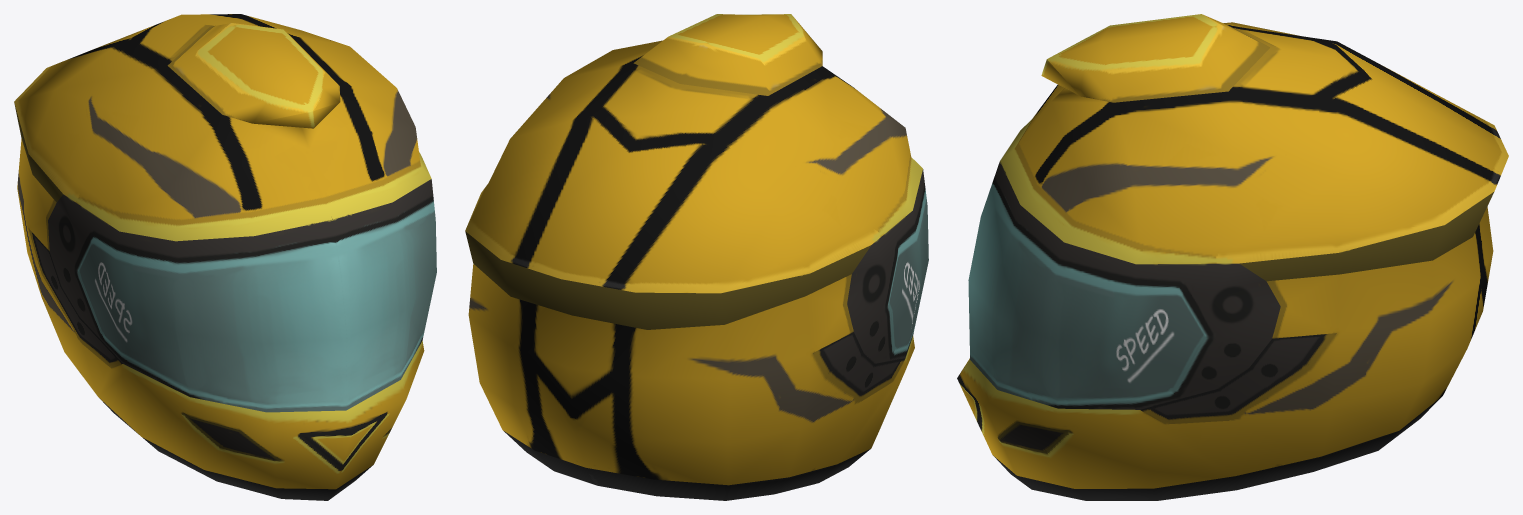
Rendered from Z002_0100_Skin.FBX.
The picture shows the model from 3 angles, left to right: view 1: azimuth 30°, elevation 25°; view 2: azimuth 150°, elevation 25°; view 3: azimuth 270°, elevation 25°; orthographic projection. The views are drawn at different scales.
Visible parts, largest first — view 1: Z002_0100; view 2: Z002_0100; view 3: Z002_0100.
Part boxes in pixels (x1,y1,x2,y2): Z002_0100: [14, 14, 436, 500]; Z002_0100: [465, 14, 928, 500]; Z002_0100: [957, 14, 1508, 500].
Size of the model in its own units: 27.64 by 33.3 by 37.14.
